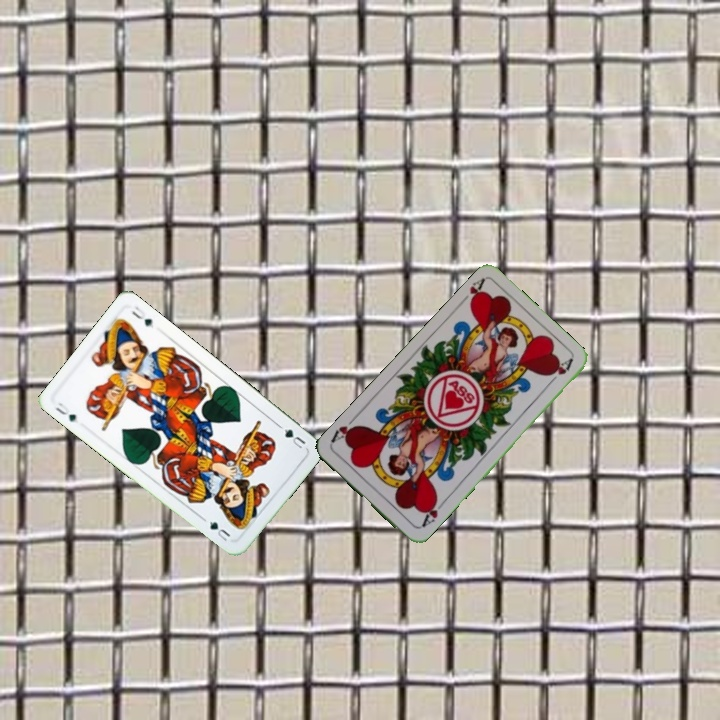GU: (280, 424, 308, 451), (51, 398, 79, 424)
HA: (455, 274, 487, 309), (418, 495, 448, 530)
